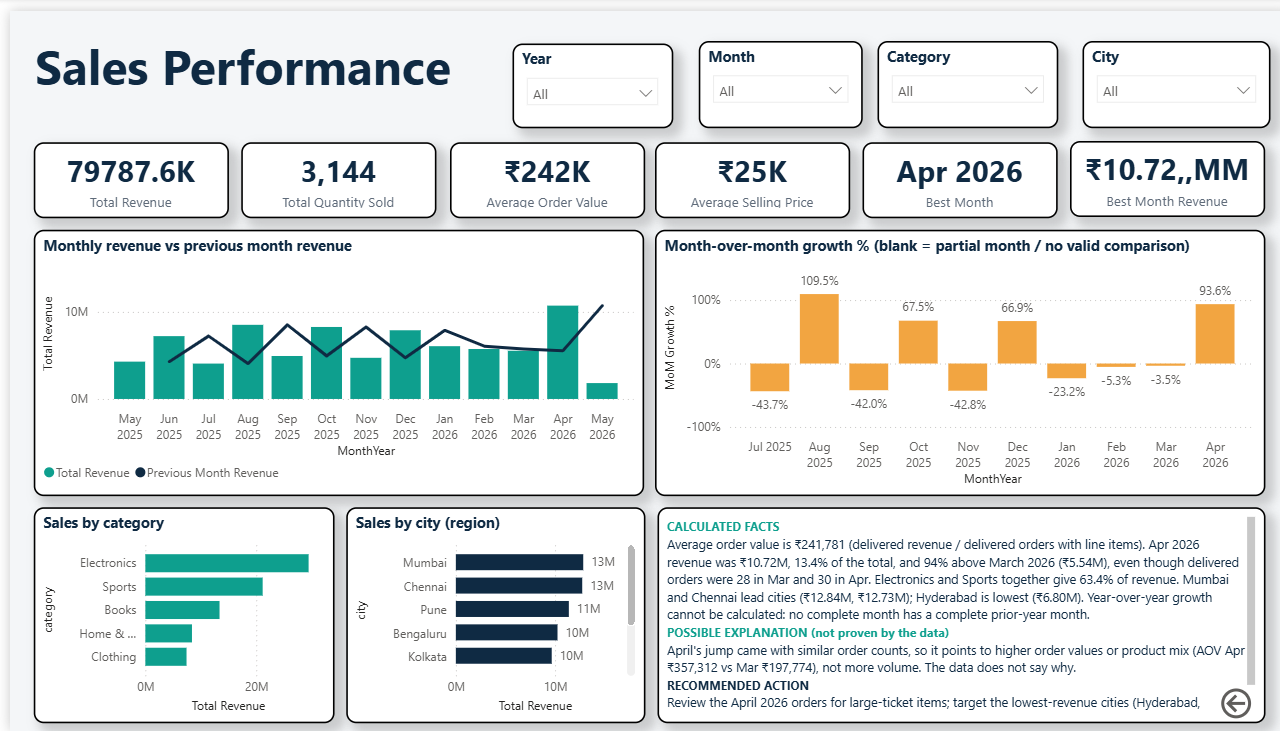

Layout of this report page (visuals, bound fields, positions):
{"tool":"powerbi","page":{"name":"2. Sales Performance","canvas":[1280,720],"ordinal":1},"visuals":[{"type":"textbox","box":[20.5,0,1255.9,117],"z":100},{"type":"slicer","title":"Year","fields":{"Values":["Date.Year"]},"box":[501.9,32.6,160.5,84.5],"z":400},{"type":"slicer","title":"Month","fields":{"Values":["Date.MonthName"]},"box":[688.9,30.2,164.1,86.9],"z":500},{"type":"slicer","title":"Category","fields":{"Values":["Products.category"]},"box":[867.4,30.2,181,86.9],"z":600},{"type":"slicer","title":"City","fields":{"Values":["Customers.city"]},"box":[1072.5,30.2,188.2,86.9],"z":700},{"type":"card","fields":{"Values":["_Measures.Total Revenue"]},"box":[24.1,131.5,195,76],"z":800},{"type":"card","fields":{"Values":["_Measures.Total Quantity Sold"]},"box":[231.6,131.5,195,76],"z":900},{"type":"card","fields":{"Values":["_Measures.Average Order Value"]},"box":[440.4,131.5,195,76],"z":1000},{"type":"card","fields":{"Values":["_Measures.Average Selling Price"]},"box":[645.4,131.5,195,76],"z":1100},{"type":"card","fields":{"Values":["_Measures.Best Month"]},"box":[853,131.5,195,76],"z":1200},{"type":"card","fields":{"Values":["_Measures.Best Month Revenue"]},"box":[1060.5,130.3,195,76],"z":1300},{"type":"lineClusteredColumnComboChart","title":"Monthly revenue vs previous month revenue","fields":{"Category":["Date.MonthYear"],"Y":["_Measures.Total Revenue"],"Y2":["_Measures.Previous Month Revenue"]},"box":[24.1,218.4,610.5,266.6],"z":1400},{"type":"clusteredColumnChart","title":"Month-over-month growth % (blank = partial month / no valid comparison)","fields":{"Category":["Date.MonthYear"],"Y":["_Measures.MoM Growth %"]},"box":[645.4,218.4,610.5,266.6],"z":1500},{"type":"clusteredBarChart","title":"Sales by category","fields":{"Category":["Products.category"],"Y":["_Measures.Total Revenue"]},"box":[24.1,495.8,300.4,216],"z":1600},{"type":"clusteredBarChart","title":"Sales by city (region)","fields":{"Category":["Customers.city"],"Y":["_Measures.Total Revenue"]},"box":[336.6,495.8,299.2,216],"z":1700},{"type":"textbox","box":[647.9,495.8,608,216],"z":1800},{"type":"actionButton","box":[1206.4,672,49.5,39.8],"z":1801}]}

Visuals, with their boxes in screenshot pixels (x1, y1, x2, y2), scaled from the page's 1280x720 canvas onto the 1280x731 screenshot:
textbox: 20:0:1276:119
"Year" slicer: 502:33:662:119
"Month" slicer: 689:31:853:119
"Category" slicer: 867:31:1048:119
"City" slicer: 1072:31:1261:119
card - _Measures.Total Revenue: 24:134:219:211
card - _Measures.Total Quantity Sold: 232:134:427:211
card - _Measures.Average Order Value: 440:134:635:211
card - _Measures.Average Selling Price: 645:134:840:211
card - _Measures.Best Month: 853:134:1048:211
card - _Measures.Best Month Revenue: 1060:132:1256:209
"Monthly revenue vs previous month revenue" lineClusteredColumnComboChart: 24:222:635:492
"Month-over-month growth % (blank = partial month / no valid comparison)" clusteredColumnChart: 645:222:1256:492
"Sales by category" clusteredBarChart: 24:503:324:723
"Sales by city (region)" clusteredBarChart: 337:503:636:723
textbox: 648:503:1256:723
actionButton: 1206:682:1256:723
